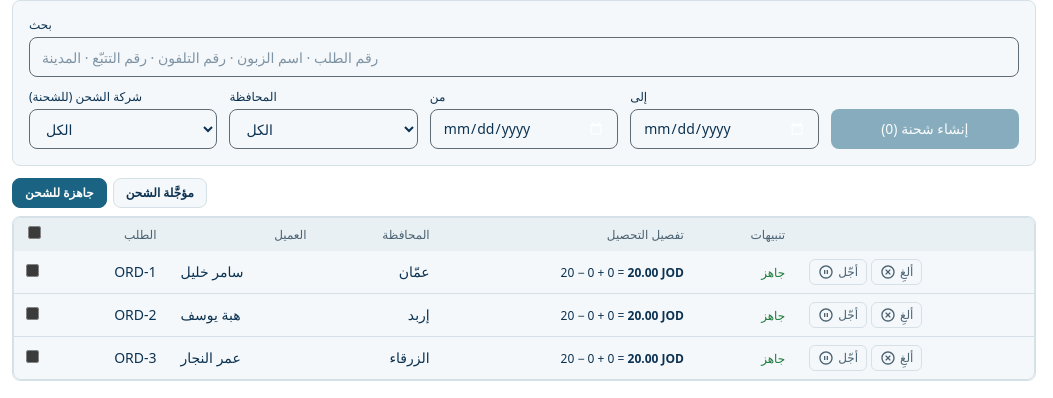
it: ticking every row › takes all three when nothing is searched
Expected: the text "سامر خليل" is shown, [180,262,244,281]
Click the checkbox named "اختر الكل" at (34, 232), box [28,226,40,239]
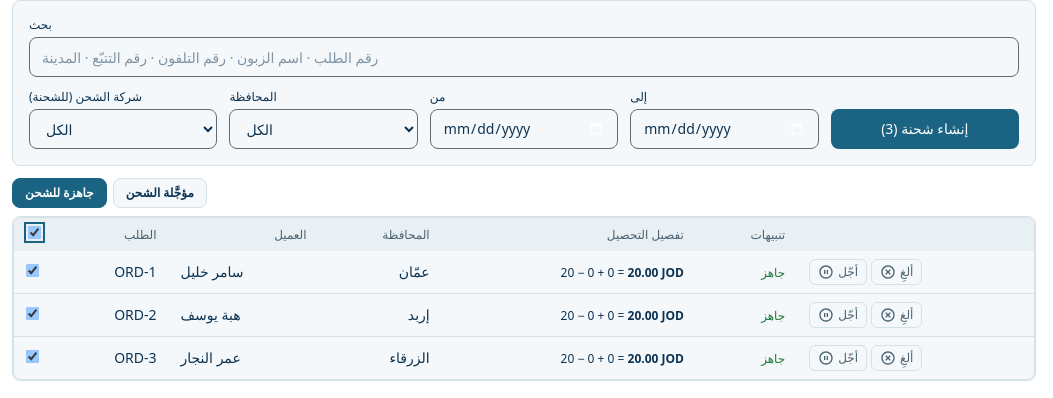
Now the button "إنشاء شحنة (3)" is shown, box [831,109,1019,149]
